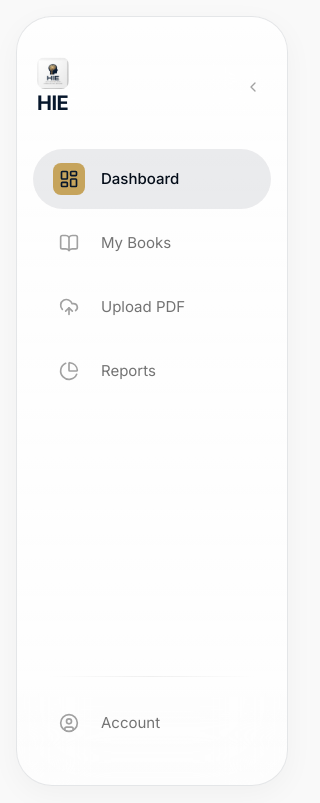
Test: Sidebar — Account menu › opens the menu on click
Click the button "Account": click(152, 723) [33,693,271,753]
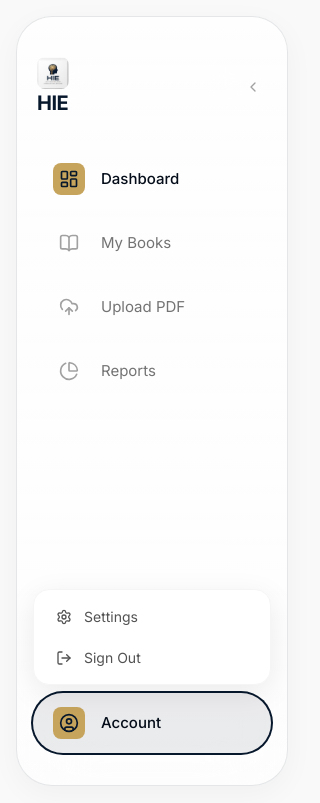
Expected: the button "Sign Out" is shown, [40,637,264,678]
